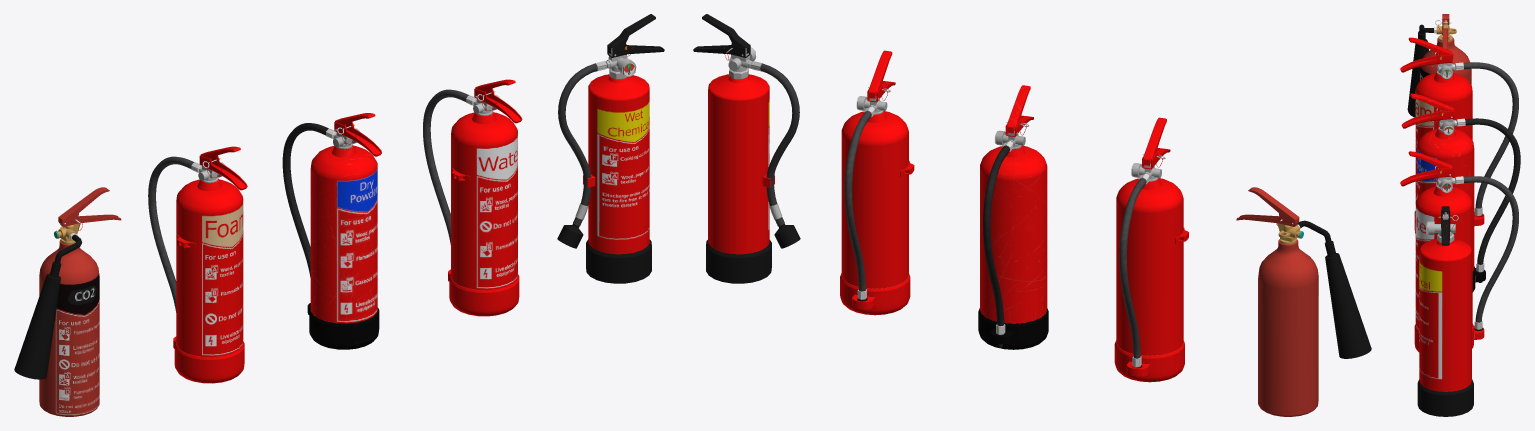
3 views of the same model, side by side, from view 1: azimuth 30°, elevation 25°; view 2: azimuth 150°, elevation 25°; view 3: azimuth 270°, elevation 25° (orthographic). The views are drawn at different scales.
Visible parts, largest first — view 1: Powder_Fire_Extinguisher1:Powder_Fire_Extinguisher:pCylinder, Powder_Fire_Extinguisher:pCylinder1, Water_Mist_Fire_Extinguishe:Powder_Fire_Extinguisher:pCylind, Wet_Chemical_Fire_Extinguisher:pCylinder1, pCylinder2, pCylinder3, Wet_Chemical_Fire_Extinguisher:polySurface20, polySurface3, Powder_Fire_Extinguisher1:Powder_Fire_Extinguisher:sweep1_Po, Water_Mist_Fire_Extinguishe:polySurface3_Water_Mist_Fire_Ext; view 2: Wet_Chemical_Fire_Extinguisher:pCylinder1, Powder_Fire_Extinguisher1:Powder_Fire_Extinguisher:pCylinder, Powder_Fire_Extinguisher:pCylinder1, Water_Mist_Fire_Extinguishe:Powder_Fire_Extinguisher:pCylind, pCylinder2, pCylinder3, Water_Mist_Fire_Extinguishe:polySurface3_Water_Mist_Fire_Ext, polySurface3, Powder_Fire_Extinguisher1:Powder_Fire_Extinguisher:sweep1_Po, Wet_Chemical_Fire_Extinguisher:polySurface20; view 3: Wet_Chemical_Fire_Extinguisher:pCylinder1, Water_Mist_Fire_Extinguishe:Powder_Fire_Extinguisher:pCylind, Powder_Fire_Extinguisher1:Powder_Fire_Extinguisher:pCylinder, Powder_Fire_Extinguisher:pCylinder1, Water_Mist_Fire_Extinguishe:polySurface3_Water_Mist_Fire_Ext, Powder_Fire_Extinguisher1:Powder_Fire_Extinguisher:sweep1_Po, polySurface3, pCylinder2, pCylinder3, Water_Mist_Fire_Extinguishe:Powder_Fire_Extinguisher:pCube2_, Powder_Fire_Extinguisher1:Powder_Fire_Extinguisher:pCube2_Po, Powder_Fire_Extinguisher:pCube2 (+7 smaller).
Part boxes in pixels (x1=…): Powder_Fire_Extinguisher1:Powder_Fire_Extinguisher:pCylinder: x1=307, y1=128, x2=379, y2=349; Powder_Fire_Extinguisher:pCylinder1: x1=173, y1=162, x2=244, y2=383; Water_Mist_Fire_Extinguishe:Powder_Fire_Extinguisher:pCylind: x1=448, y1=95, x2=519, y2=316; Wet_Chemical_Fire_Extinguisher:pCylinder1: x1=586, y1=74, x2=651, y2=283; pCylinder2: x1=39, y1=239, x2=99, y2=416; pCylinder3: x1=14, y1=261, x2=61, y2=379; Wet_Chemical_Fire_Extinguisher:polySurface20: x1=558, y1=63, x2=597, y2=226; polySurface3: x1=148, y1=156, x2=193, y2=312; Powder_Fire_Extinguisher1:Powder_Fire_Extinguisher:sweep1_Po: x1=282, y1=123, x2=328, y2=277; Water_Mist_Fire_Extinguishe:polySurface3_Water_Mist_Fire_Ext: x1=423, y1=89, x2=468, y2=244; Wet_Chemical_Fire_Extinguisher:pCylinder1: x1=706, y1=74, x2=771, y2=283; Powder_Fire_Extinguisher1:Powder_Fire_Extinguisher:pCylinder: x1=978, y1=128, x2=1048, y2=349; Powder_Fire_Extinguisher:pCylinder1: x1=1114, y1=160, x2=1184, y2=382; Water_Mist_Fire_Extinguishe:Powder_Fire_Extinguisher:pCylind: x1=840, y1=93, x2=910, y2=315; pCylinder2: x1=1258, y1=239, x2=1318, y2=416; pCylinder3: x1=1324, y1=241, x2=1371, y2=358; Water_Mist_Fire_Extinguishe:polySurface3_Water_Mist_Fire_Ext: x1=844, y1=111, x2=871, y2=291; polySurface3: x1=1119, y1=178, x2=1146, y2=358; Powder_Fire_Extinguisher1:Powder_Fire_Extinguisher:sweep1_Po: x1=983, y1=145, x2=1009, y2=326; Wet_Chemical_Fire_Extinguisher:polySurface20: x1=760, y1=63, x2=799, y2=226; Wet_Chemical_Fire_Extinguisher:pCylinder1: x1=1417, y1=239, x2=1473, y2=416; Water_Mist_Fire_Extinguishe:Powder_Fire_Extinguisher:pCylind: x1=1414, y1=176, x2=1484, y2=352; Powder_Fire_Extinguisher1:Powder_Fire_Extinguisher:pCylinder: x1=1417, y1=119, x2=1485, y2=292; Powder_Fire_Extinguisher:pCylinder1: x1=1414, y1=63, x2=1484, y2=233; Water_Mist_Fire_Extinguishe:polySurface3_Water_Mist_Fire_Ext: x1=1463, y1=176, x2=1518, y2=322; Powder_Fire_Extinguisher1:Powder_Fire_Extinguisher:sweep1_Po: x1=1465, y1=118, x2=1520, y2=264; polySurface3: x1=1463, y1=62, x2=1518, y2=208; pCylinder2: x1=1420, y1=38, x2=1471, y2=84; pCylinder3: x1=1407, y1=31, x2=1428, y2=117; Water_Mist_Fire_Extinguishe:Powder_Fire_Extinguisher:pCube2_: x1=1400, y1=167, x2=1452, y2=186; Powder_Fire_Extinguisher1:Powder_Fire_Extinguisher:pCube2_Po: x1=1401, y1=109, x2=1454, y2=128; Powder_Fire_Extinguisher:pCube2: x1=1400, y1=53, x2=1452, y2=72.
Size of the model in its own units: 1.92 by 0.6891 by 0.3576.
9 materials, 5 textured.
